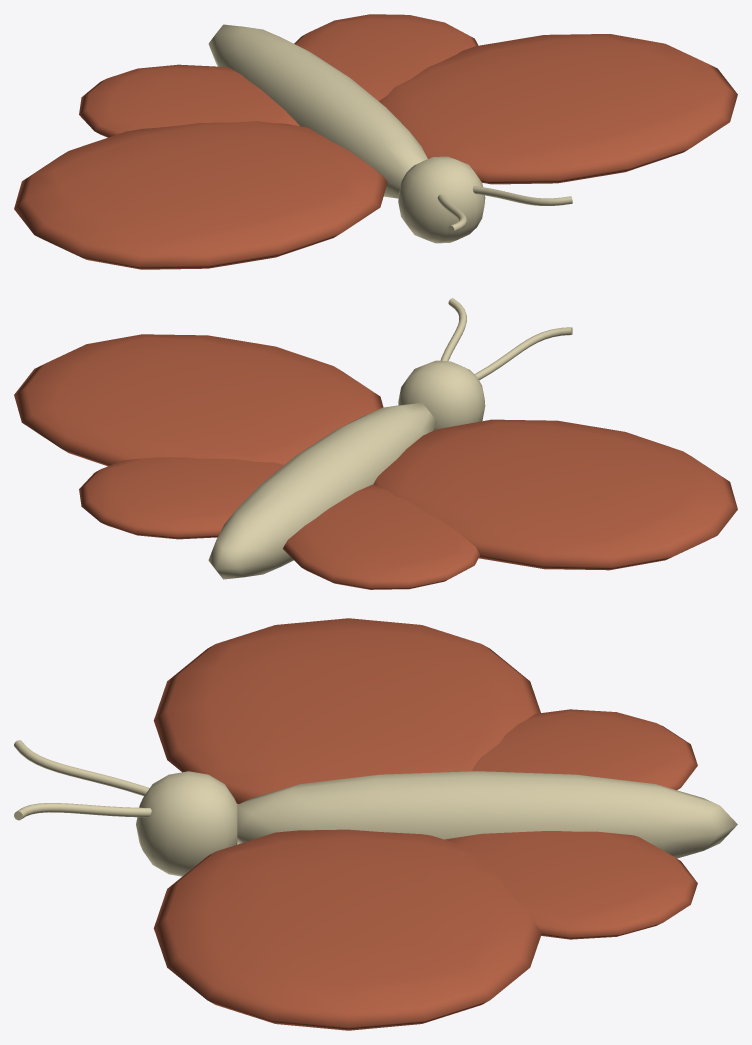
Rendered from Batterfly.fbx.
3 views of the same model, one above another, from view 1: azimuth 30°, elevation 25°; view 2: azimuth 150°, elevation 25°; view 3: azimuth 270°, elevation 25° (orthographic). The views are drawn at different scales.
Parts seen in each view (by area): view 1: Cube.003, Cube.001, Cube.002; view 2: Cube.003, Cube.001, Cube.002; view 3: Cube.001, Cube.003, Cube.002.
Boxes of the visible parts, x1,y1,x2,y2 form: Cube.003: [14, 64, 387, 269]; Cube.001: [294, 14, 737, 184]; Cube.002: [208, 24, 572, 243]; Cube.003: [283, 419, 737, 589]; Cube.001: [14, 334, 383, 539]; Cube.002: [208, 298, 572, 579]; Cube.001: [153, 829, 697, 1030]; Cube.003: [153, 618, 697, 804]; Cube.002: [14, 740, 737, 876].
Size of the model in its own units: 801 by 88.82 by 604.
